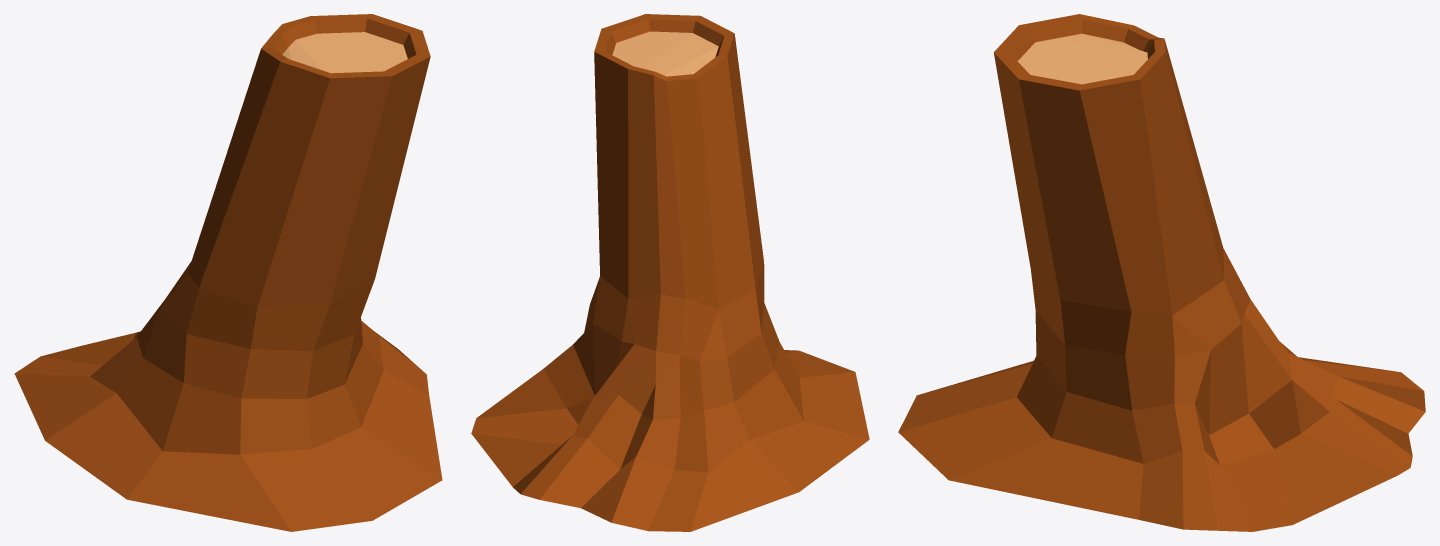
The model's file is Log_05.fbx.
3 views of the same model, side by side, from view 1: azimuth 30°, elevation 25°; view 2: azimuth 150°, elevation 25°; view 3: azimuth 270°, elevation 25° (orthographic). The views are drawn at different scales.
Visible parts, largest first — view 1: Log_05; view 2: Log_05; view 3: Log_05.
Boxes of the visible parts, x1,y1,x2,y2 form: Log_05: (14, 14, 442, 531); Log_05: (471, 14, 869, 531); Log_05: (898, 14, 1425, 531).
Size of the model in its own units: 129 by 137 by 157.
